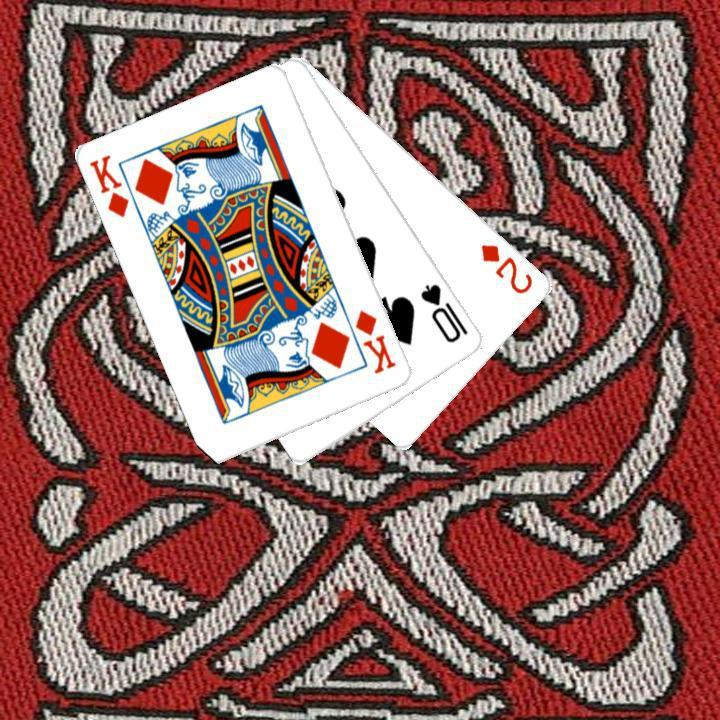10: (416, 279, 471, 346)
2: (477, 239, 536, 297)
K: (351, 305, 399, 376), (85, 151, 132, 220)
